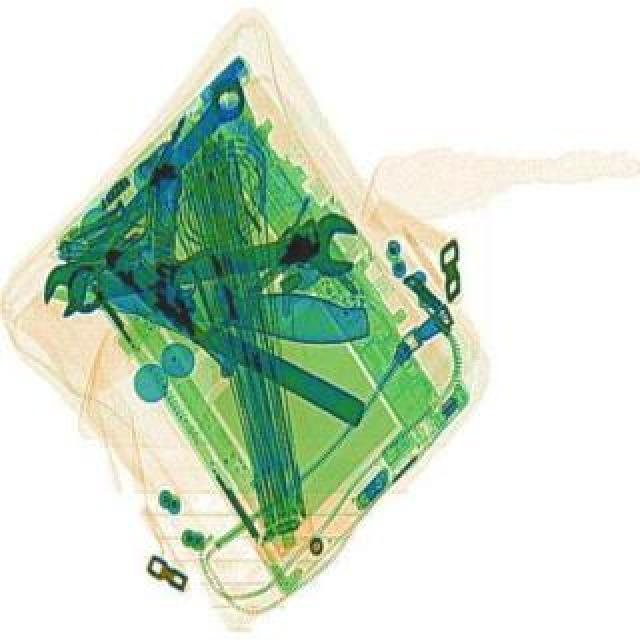gun: (80, 156, 310, 376)
knife: (70, 254, 370, 424), (44, 266, 372, 346)
scissors: (26, 64, 258, 322), (62, 206, 366, 320)
